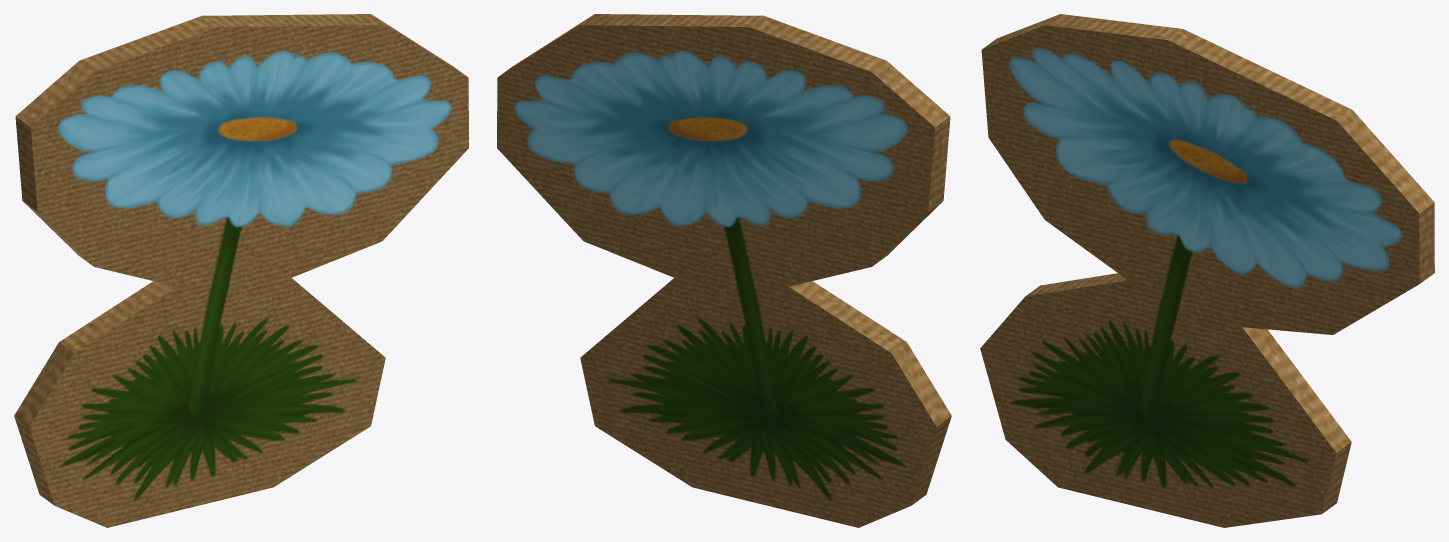
Rendered from Asset_Flower_Blue.fbx.
3 renders of one model, left to right at view 1: azimuth 30°, elevation 25°; view 2: azimuth 150°, elevation 25°; view 3: azimuth 330°, elevation 25°, orthographic.
Visible parts, largest first — view 1: Asset_Flower_Blue_01; view 2: Asset_Flower_Blue_01; view 3: Asset_Flower_Blue_01.
Part boxes in pixels (x1,y1,x2,y2): Asset_Flower_Blue_01: [14, 14, 468, 527]; Asset_Flower_Blue_01: [497, 14, 951, 527]; Asset_Flower_Blue_01: [980, 14, 1434, 527].
Size of the model in its own units: 0.5493 by 0.5663 by 0.0331.
